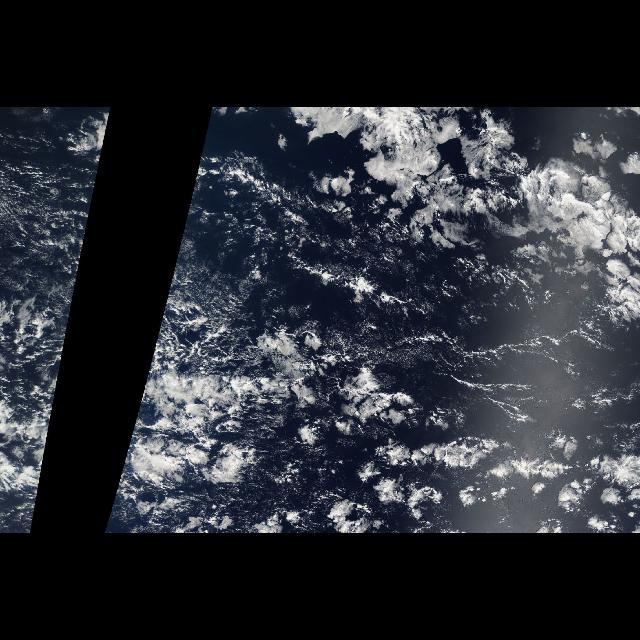Fish: (129, 370, 291, 438), (276, 253, 422, 315), (11, 370, 61, 438)
Flower: (250, 371, 640, 534)
Sugar: (388, 320, 638, 412), (164, 171, 310, 309)
